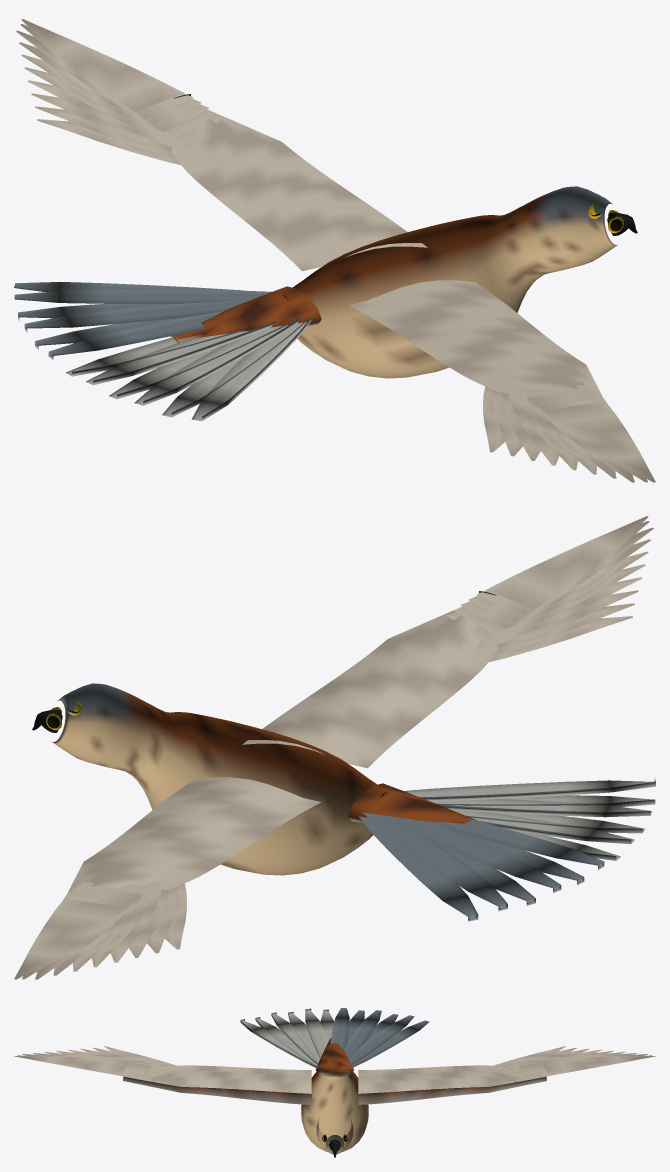
File: SM_Bird_kestrel_glide.glb
The picture shows the model from 3 angles, top to bottom: view 1: azimuth 30°, elevation 25°; view 2: azimuth 150°, elevation 25°; view 3: azimuth 270°, elevation 25°; orthographic projection. The views are drawn at different scales.
Visible parts, largest first — view 1: SM_Bird_kestrel_glide; view 2: SM_Bird_kestrel_glide; view 3: SM_Bird_kestrel_glide.
Part boxes in pixels (<box>): SM_Bird_kestrel_glide: <box>14,19,655,482</box>; SM_Bird_kestrel_glide: <box>14,516,655,979</box>; SM_Bird_kestrel_glide: <box>14,1008,655,1157</box>.
Bounding box in the file's own units: 0.3789 × 0.0894 × 0.7187.
